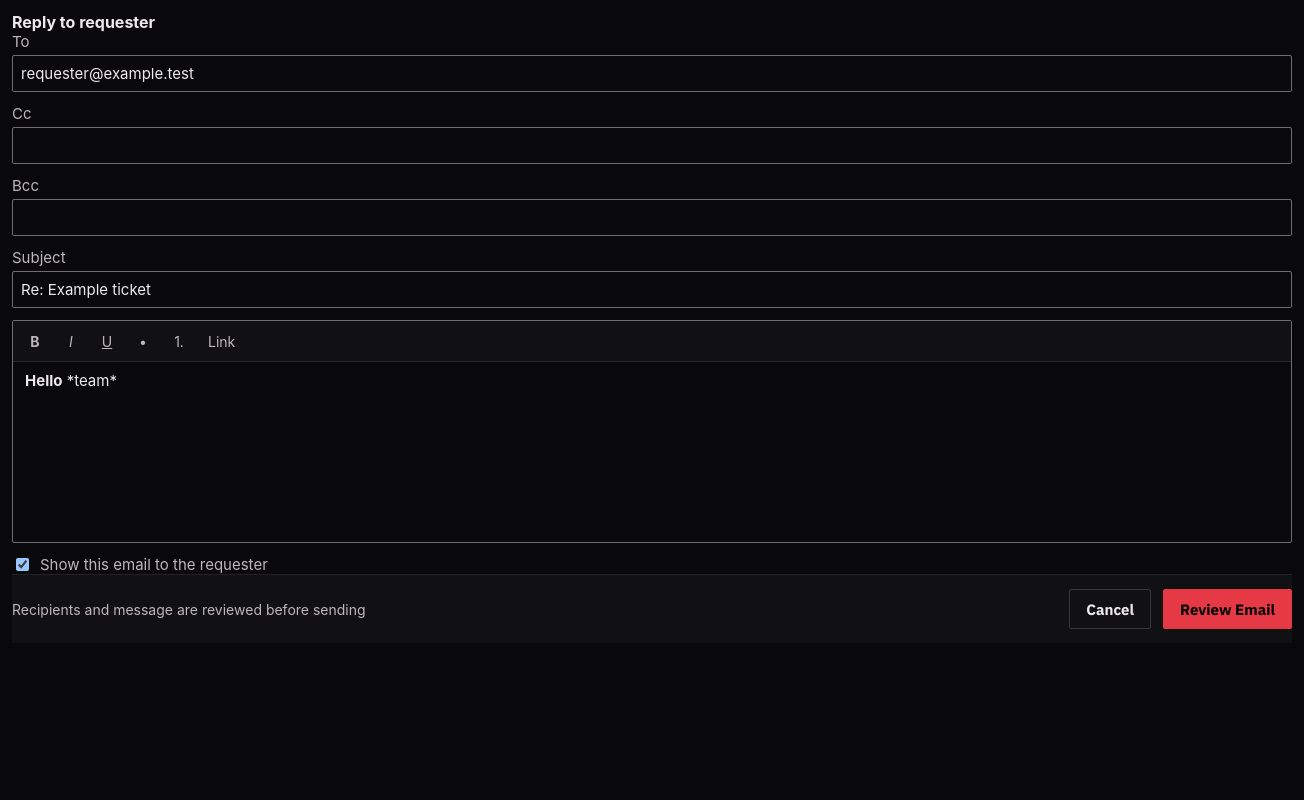
Test case: sends the reply as plain text when the Relay server predates reply formatting
Click the button "Review Email" at (1228, 609), box [1163,589,1292,629]
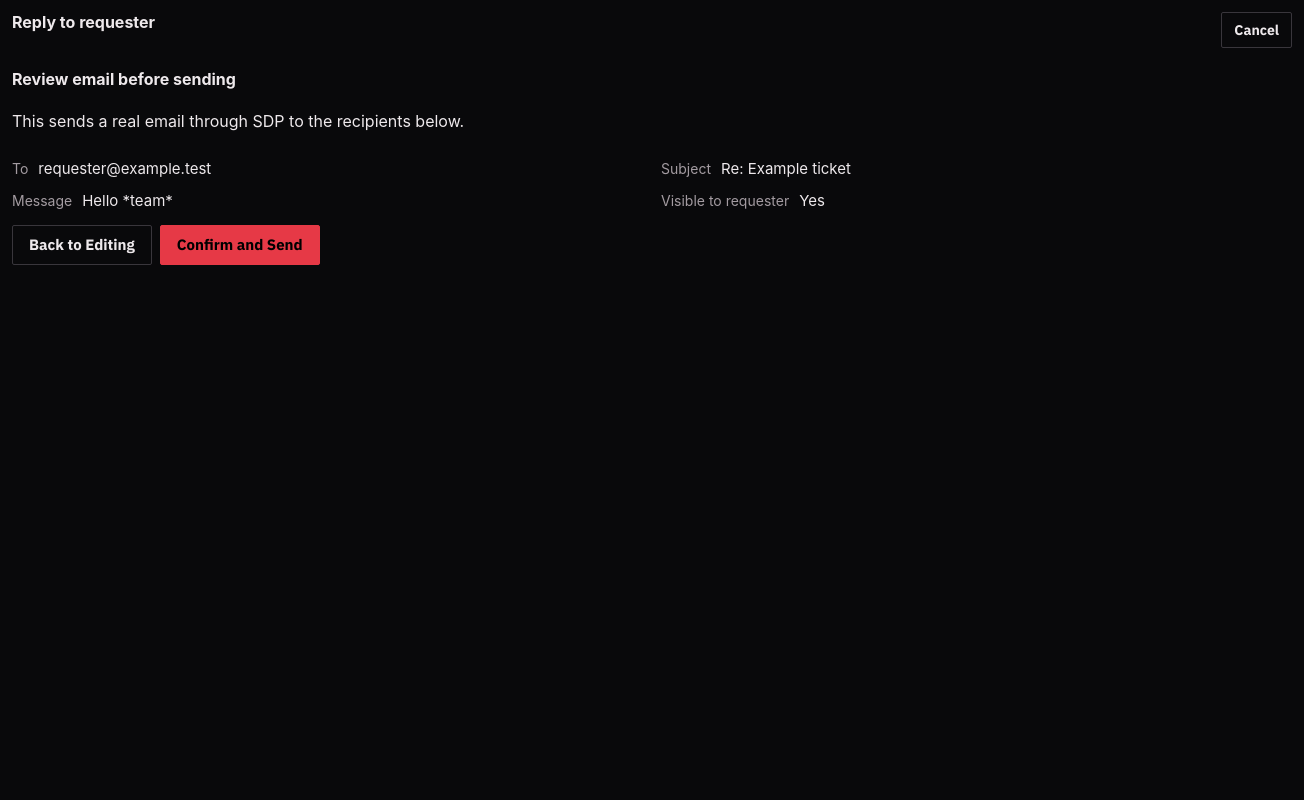
Result: the heading "Review email before sending" is shown at [12,69,236,89]
